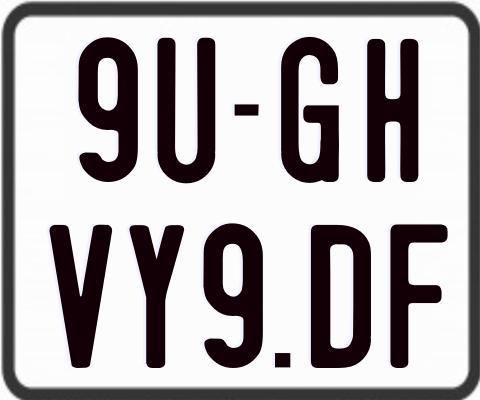9: (202, 223, 267, 368), (75, 36, 135, 181)
D: (310, 222, 375, 371)
F: (388, 222, 446, 370)
G: (281, 37, 345, 186)
H: (366, 39, 422, 188)
U: (157, 35, 216, 184)
V: (48, 222, 110, 369)
Y: (126, 225, 186, 374)
